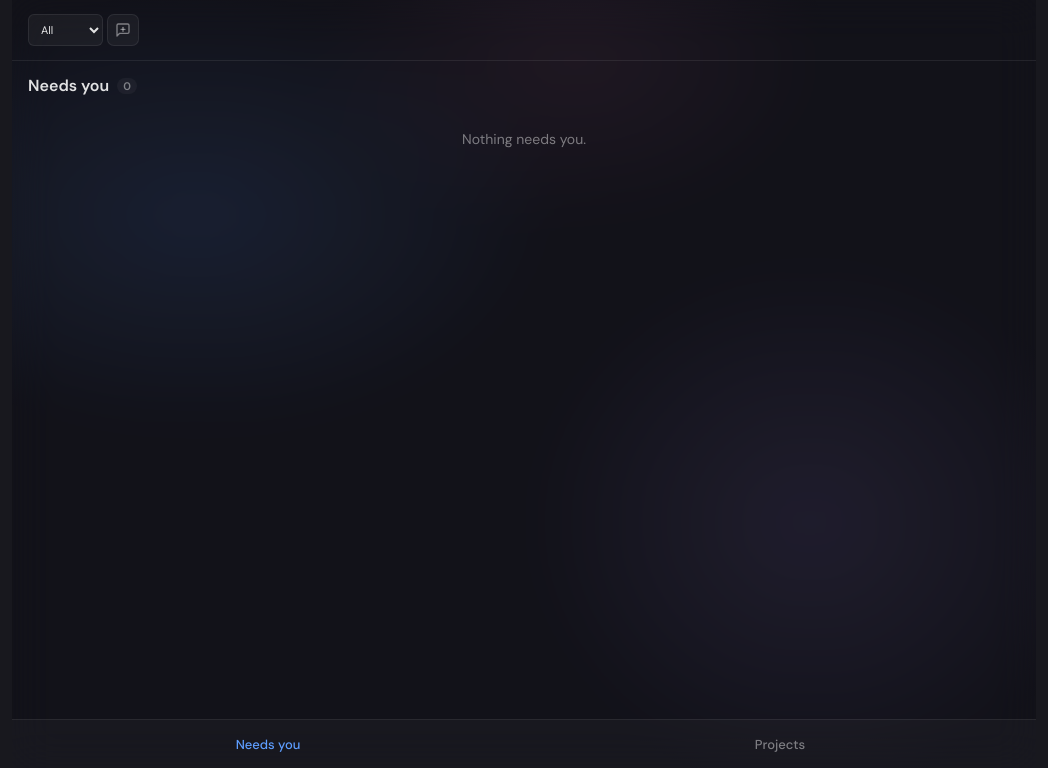
it: on a phone: true › folds a root's header to a count of every session under it, its + left as it is
Click the button with class "home-tab" showing "Projects" at [780, 744], box [524, 720, 1036, 767]
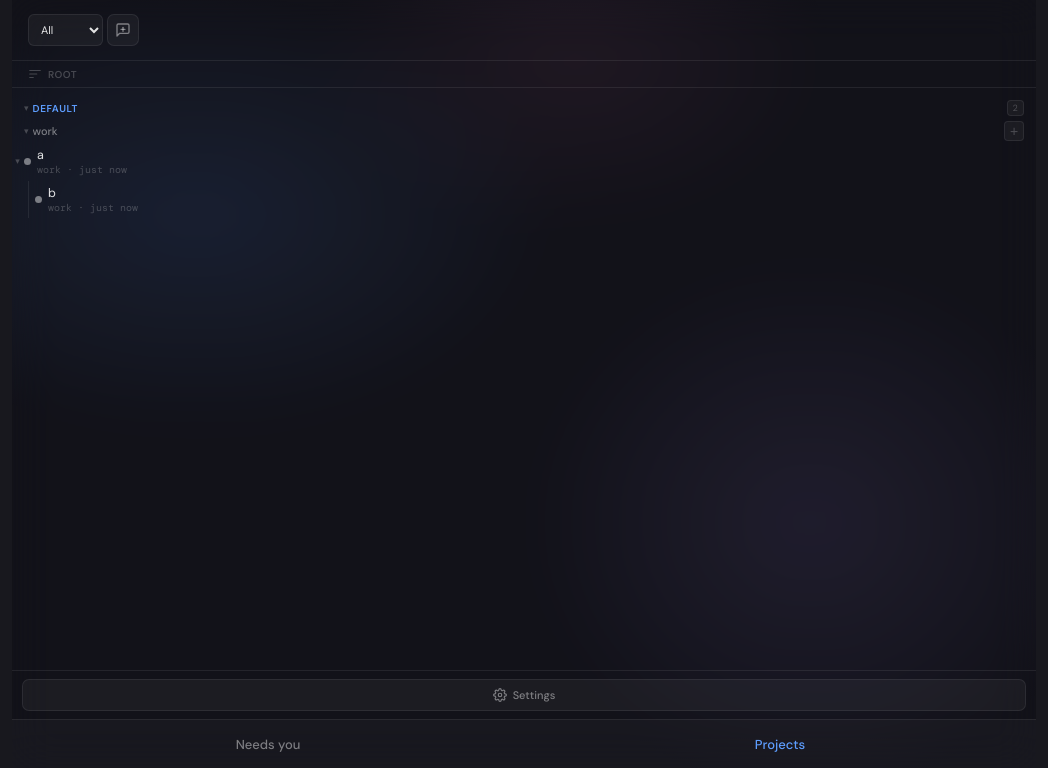
Click the button with class "group-fold-toggle" showing "▾ work" at [41, 131], box [24, 124, 58, 138]
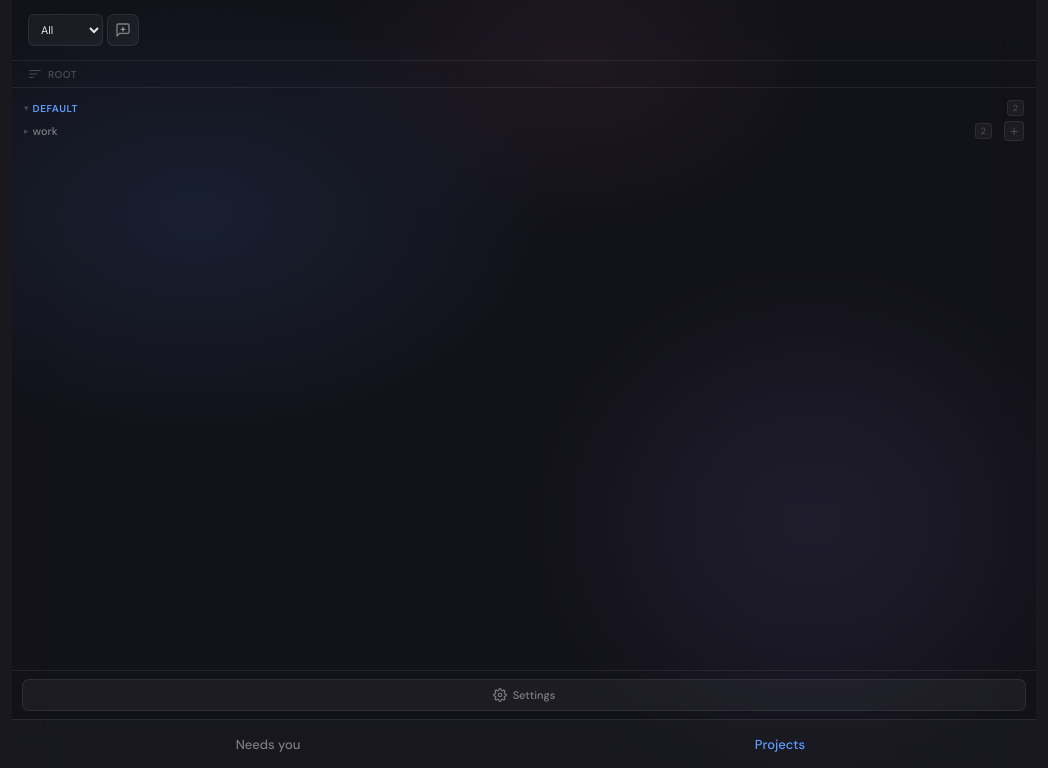
Check: the button with class "root-action-btn" is shown, box [1004, 121, 1024, 141]
Check: the 2nd text "2" is shown, box [975, 123, 992, 139]
